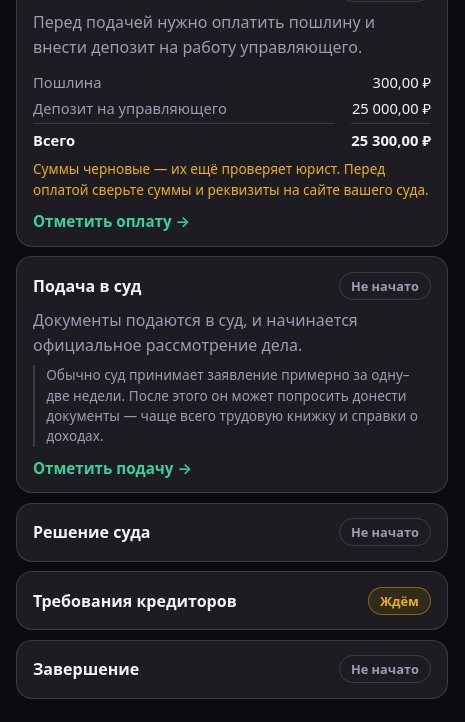
ProcedurePage › records the court procedure from the decision stage and reveals that branch
(page scrolled)
Step 1. Click the button "Решение суда Не начато" → (92, 532), box [33,518,431,546]
(page scrolled)
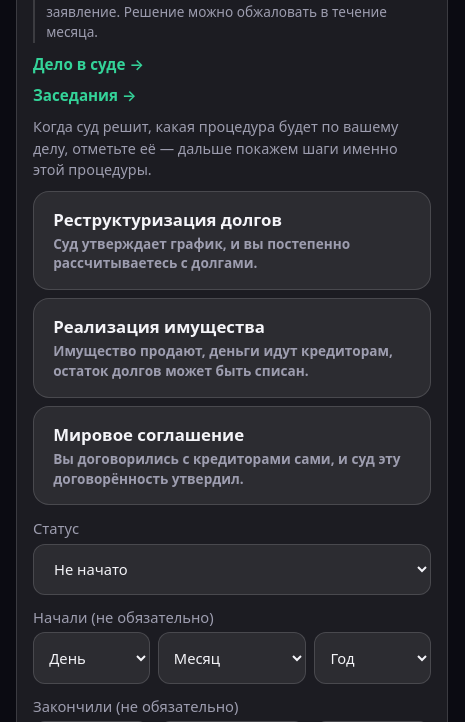
Step 2. Click the button "Реализация имущества" → (232, 348), box [33,298,431,398]
(page scrolled)
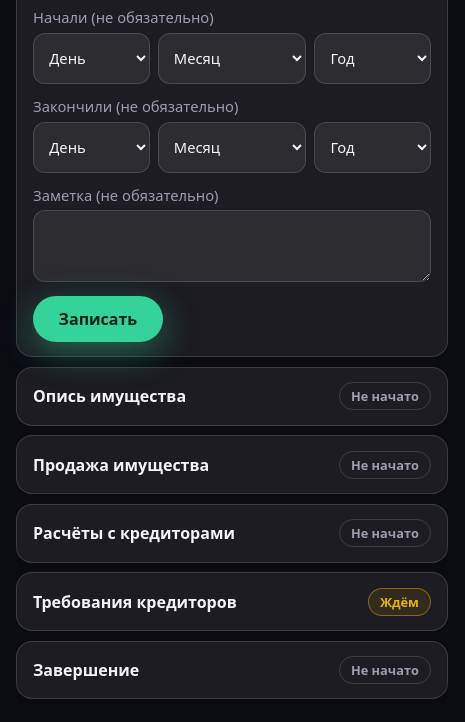
Now the text "Опись имущества" is shown, box [33,385,186,407]
